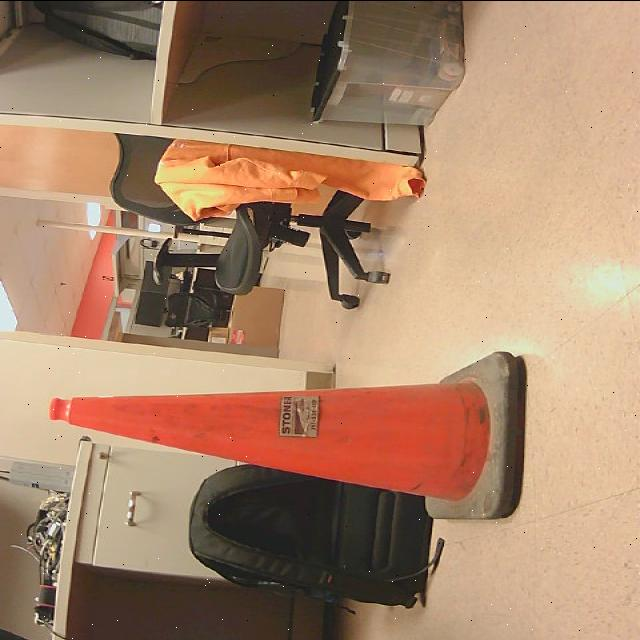traffic cone: (50, 351, 530, 519)
